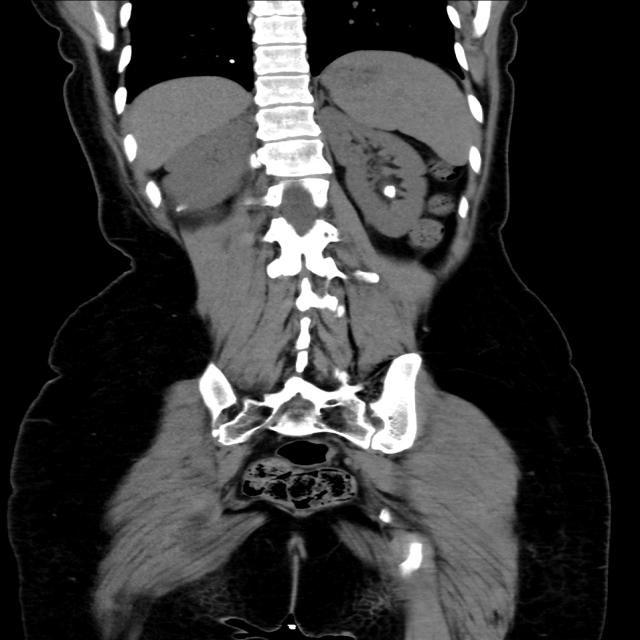kidneystone: (383, 185, 396, 198)
